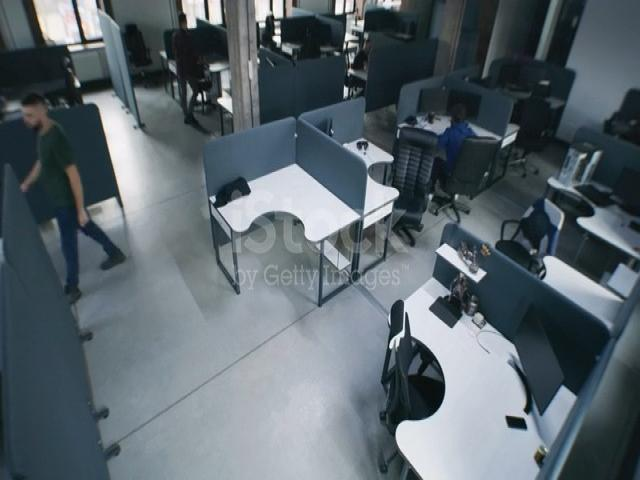empty chair: (371, 293, 454, 480), (369, 114, 444, 263), (502, 179, 574, 304), (111, 16, 160, 97), (49, 39, 86, 119), (518, 77, 552, 164), (189, 51, 219, 119)
occupiedchair: (441, 104, 495, 227), (342, 32, 381, 115), (600, 91, 640, 155)
